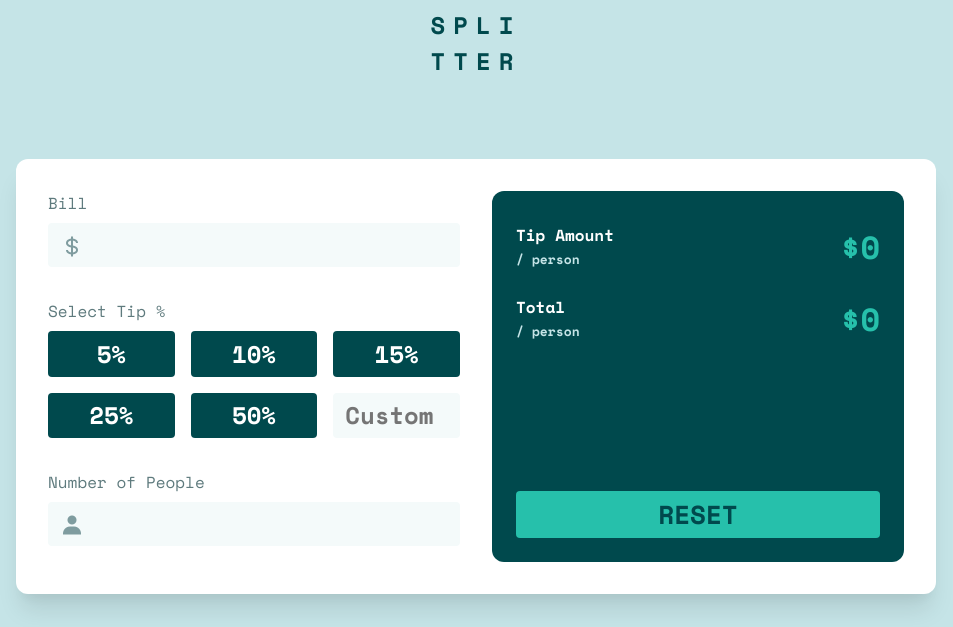
Test: Calculate total amount & tip when bill, customTip and numOfPpl are changed
In the number field with test id "bill-input": (254, 245) x1=48 y1=223 x2=460 y2=267, type "2000"
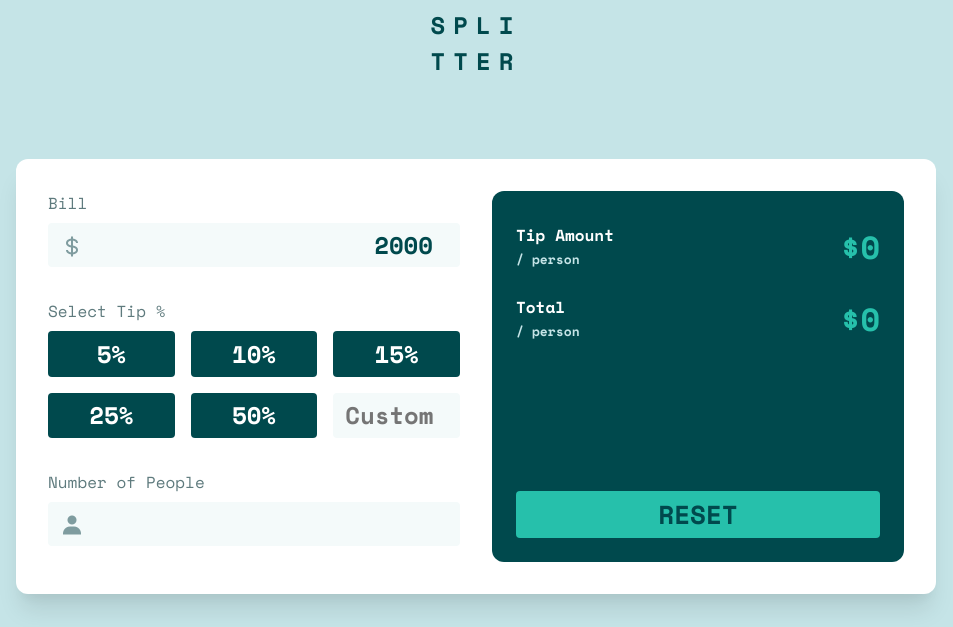
In the number field with test id "custom-tip": (397, 415) x1=333 y1=393 x2=460 y2=438, type "10"
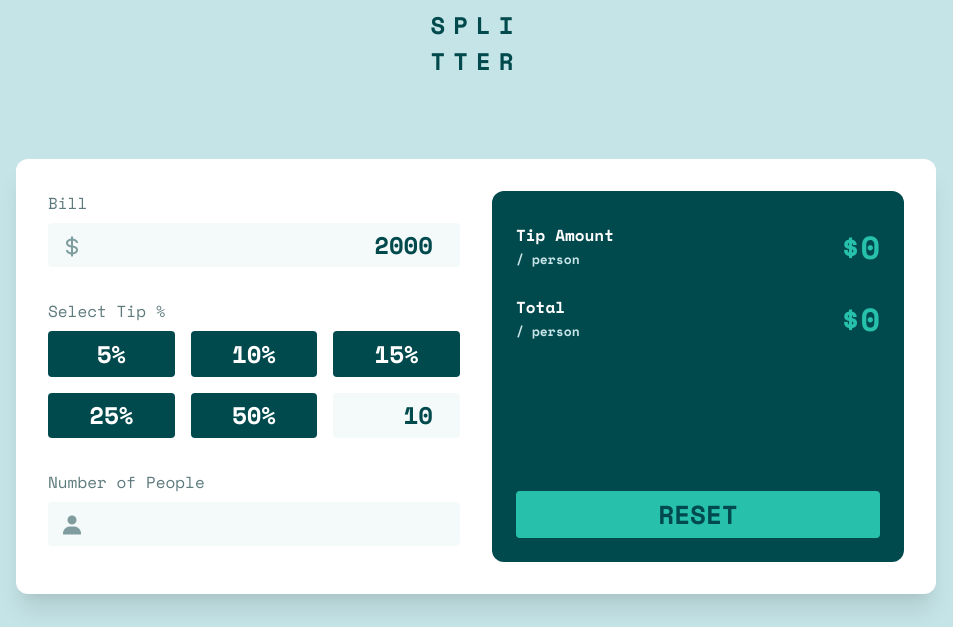
In the number field with test id "ppl-input": (254, 524) x1=48 y1=502 x2=460 y2=546, type "2"
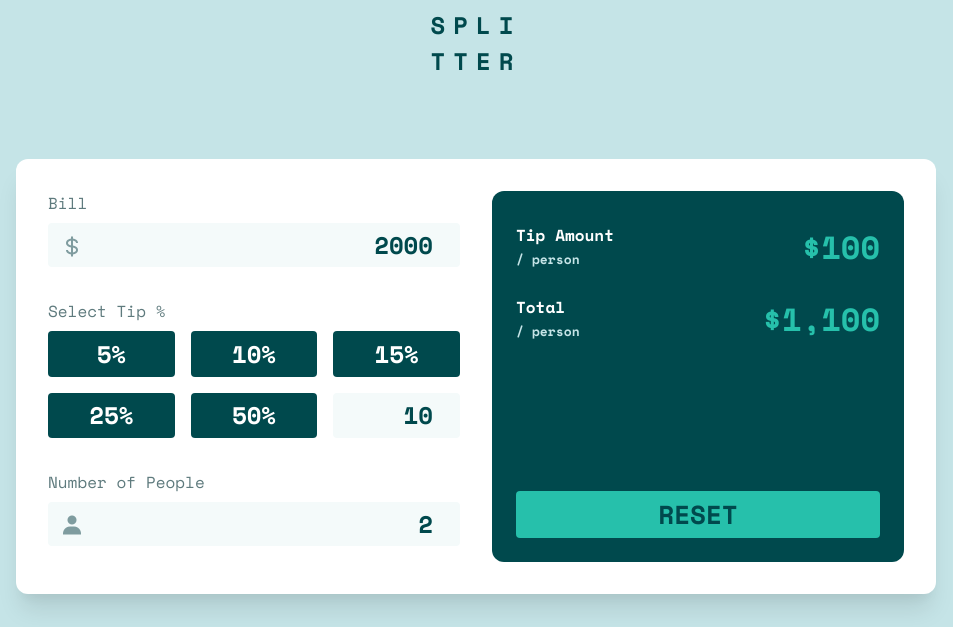
expect the text with test id "total-amount" shows "1,100": met, box x1=782 y1=295 x2=880 y2=343
expect the text with test id "tip-amount" shows "100": met, box x1=821 y1=223 x2=880 y2=271
